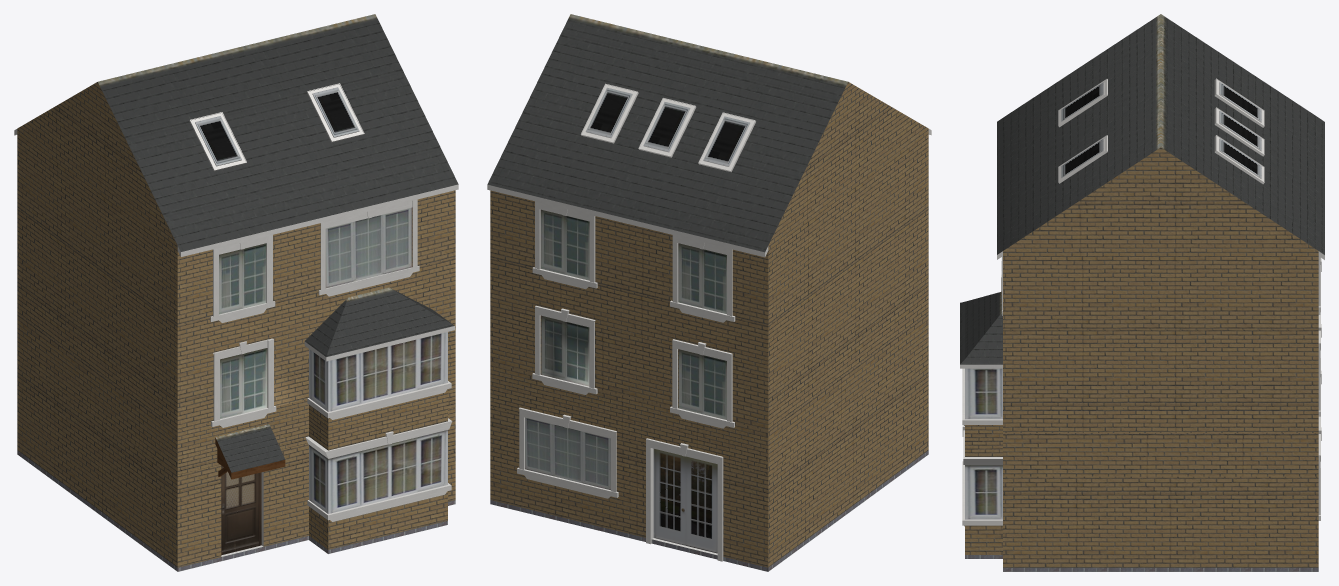
Rendered from modernterrace3story3bm.FBX.
3 views of the same model, side by side, from view 1: azimuth 30°, elevation 25°; view 2: azimuth 150°, elevation 25°; view 3: azimuth 270°, elevation 25° (orthographic).
Parts seen in each view (by area): view 1: Box001; view 2: Box001; view 3: Box001.
Boxes of the visible parts, box(x1,y1,x2,y2) form: Box001: box(14, 14, 458, 571); Box001: box(487, 14, 931, 571); Box001: box(960, 14, 1324, 571).
Bounding box in the file's own units: 800 × 1188 × 925.
